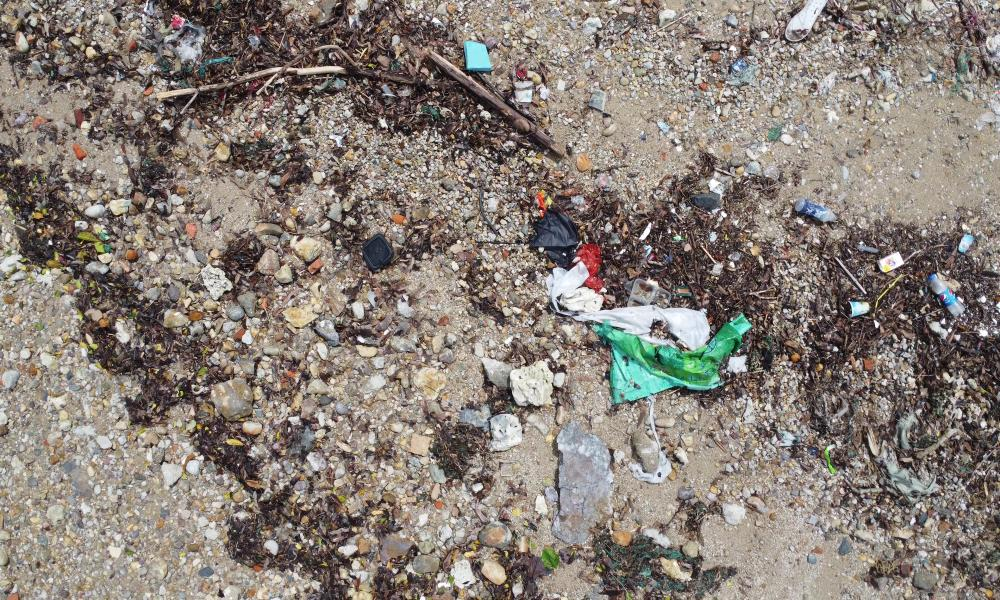carton: (876, 248, 906, 280), (848, 297, 874, 321)
plastic bag: (602, 315, 754, 406), (593, 302, 713, 345), (526, 203, 587, 274), (545, 263, 603, 325), (572, 243, 603, 298)
plastic bottle: (928, 269, 972, 323), (796, 192, 842, 228)
plastic container: (625, 276, 674, 314)
